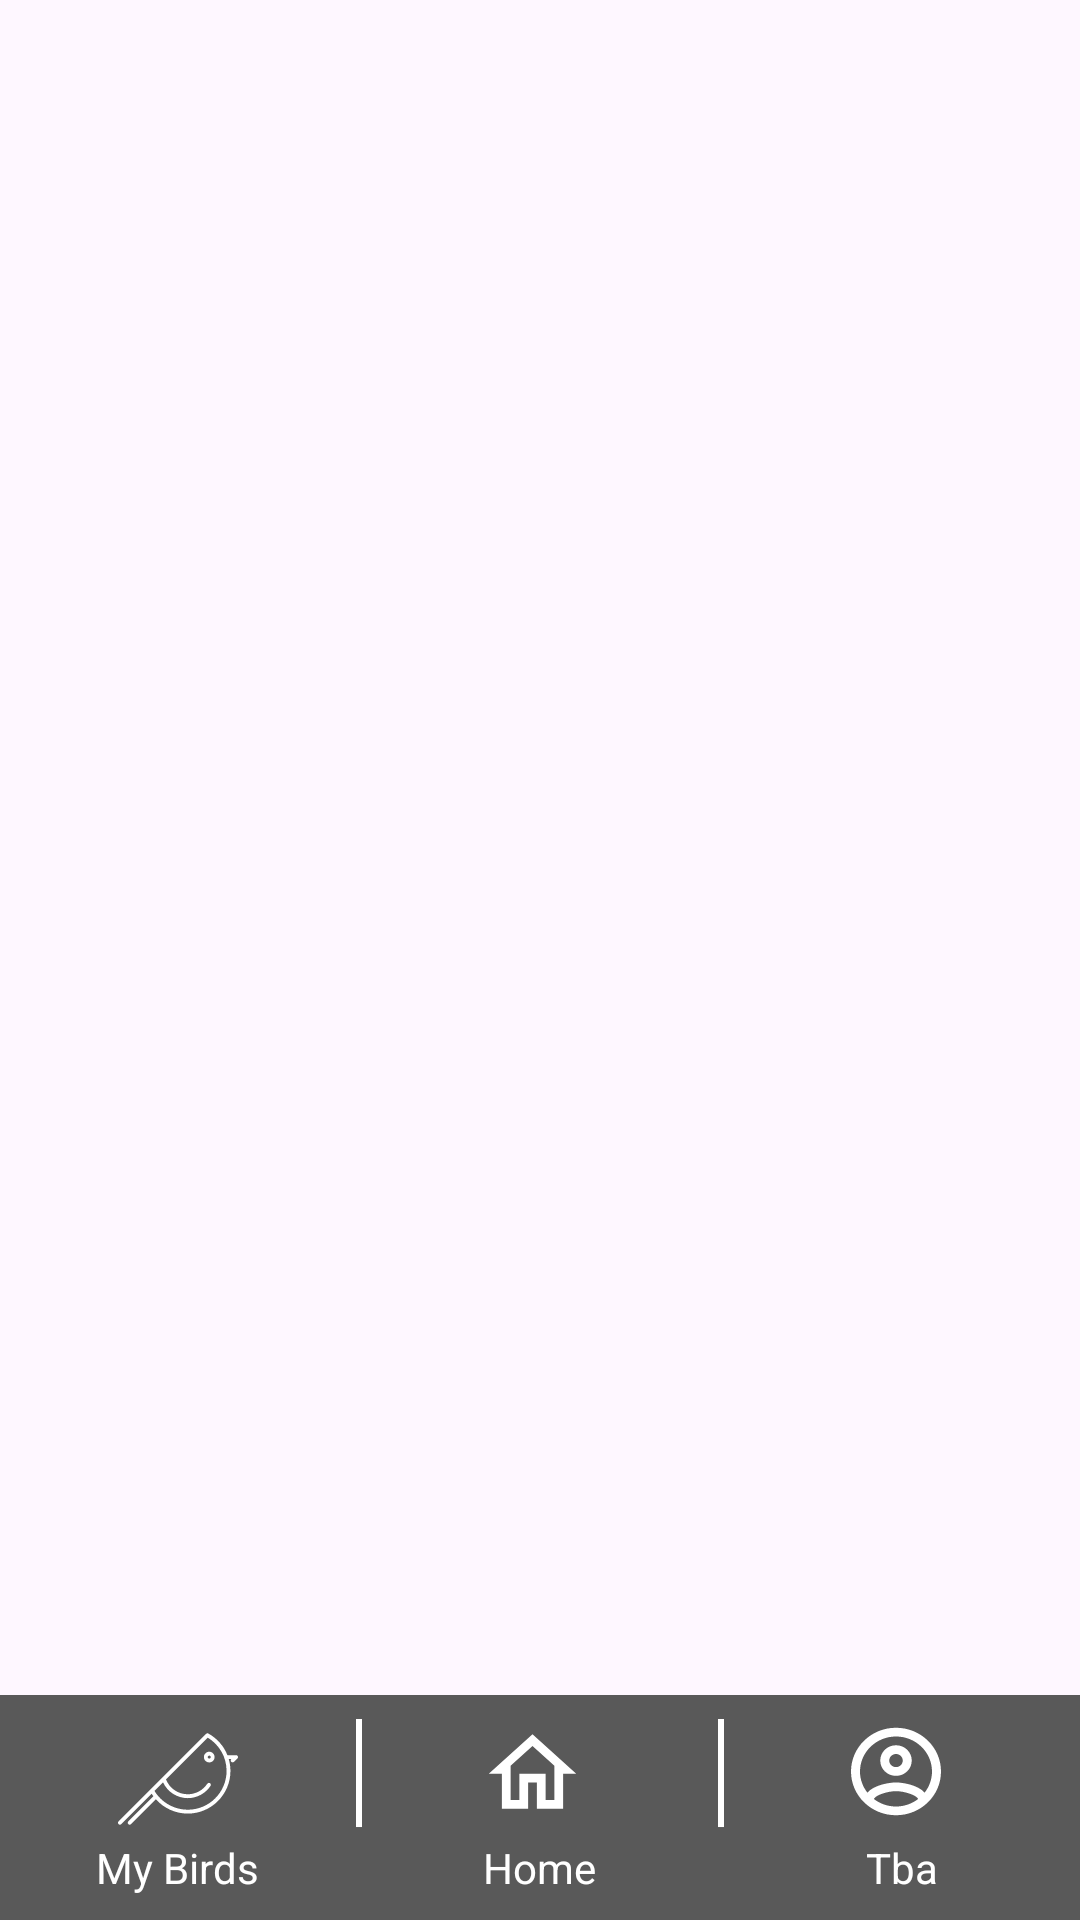

Named icons in this screenshot (1080px×1920px) and their centers, point (x, y):
account: point (896, 1771)
